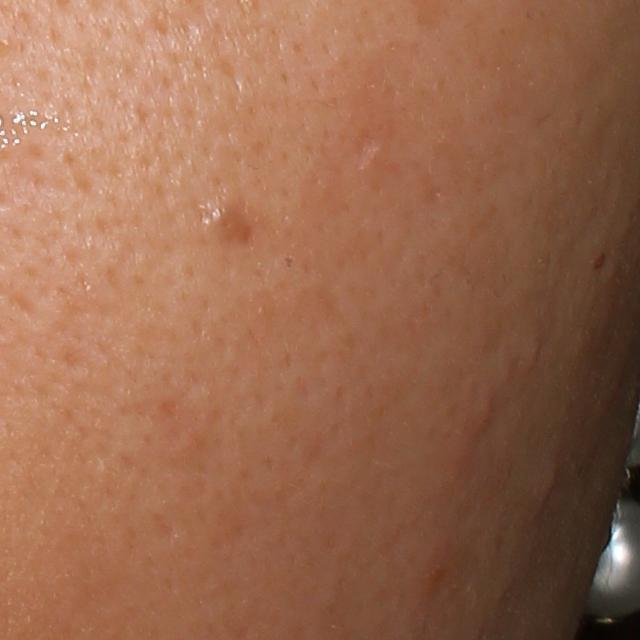papule: (468, 397, 493, 435)
